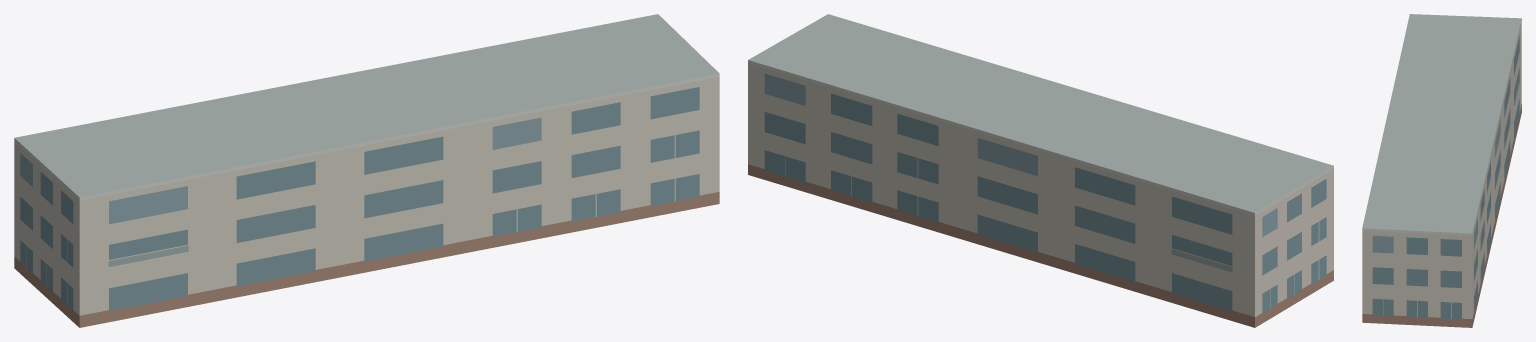
File: survey-upis-32968446.glb
The picture shows the model from 3 angles, left to right: view 1: azimuth 30°, elevation 25°; view 2: azimuth 150°, elevation 25°; view 3: azimuth 270°, elevation 25°; orthographic projection. The views are drawn at different scales.
Visible parts, largest first — view 1: survey-upis-32968446.tmp; view 2: survey-upis-32968446.tmp; view 3: survey-upis-32968446.tmp.
Boxes of the visible parts, left/top/right/bottom form: survey-upis-32968446.tmp: left=14, top=14, right=719, bottom=327; survey-upis-32968446.tmp: left=748, top=14, right=1333, bottom=327; survey-upis-32968446.tmp: left=1362, top=14, right=1521, bottom=327.
Bounding box in the file's own units: 45.63 × 9.15 × 14.03.
